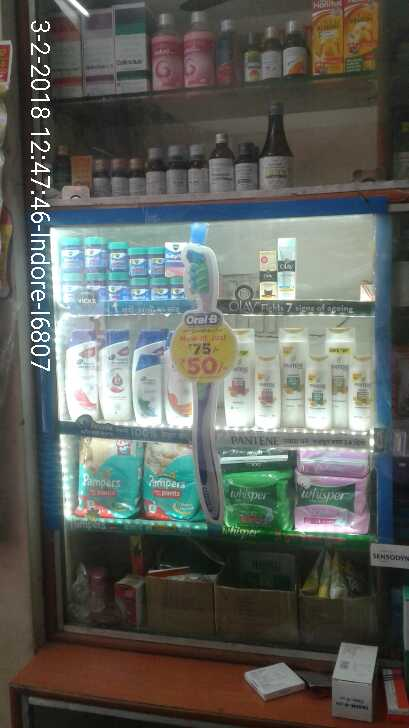beauty: (314, 337, 378, 438), (63, 326, 101, 421), (129, 328, 164, 430), (220, 329, 257, 425), (277, 330, 310, 436), (99, 329, 133, 424), (255, 238, 299, 308), (254, 339, 282, 426)
pharmacy: (59, 228, 189, 308), (294, 453, 368, 540), (74, 439, 146, 520), (219, 449, 288, 531), (143, 443, 200, 517)
